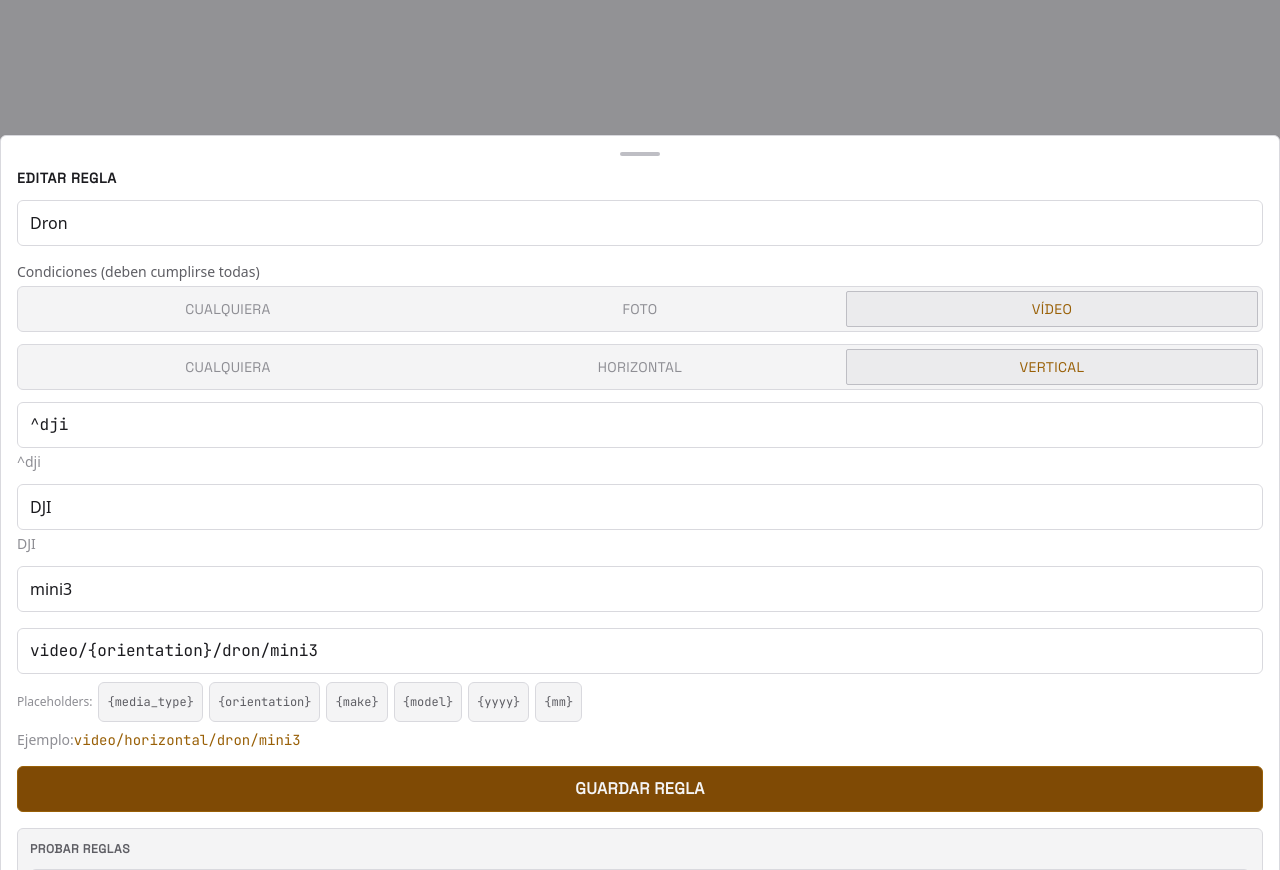
Test: RuleSheet › shows a 422 slug inline on its field (invalid_regex) and keeps the sheet open
Replace the text in the field named "Regex del nombre de archivo" with "[" at (640, 425), box [17,402,1263,448]
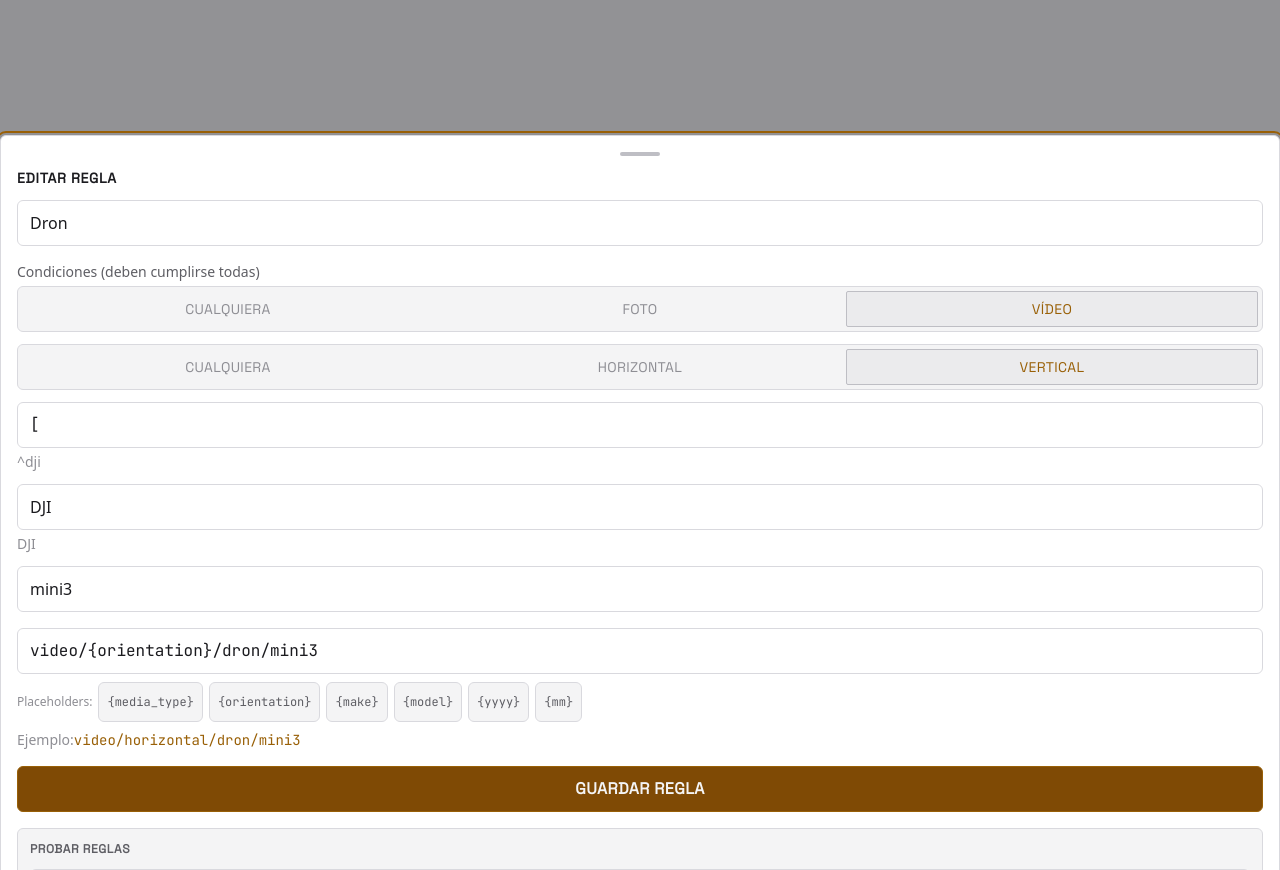
Click the button with test id "rule-save".
click(640, 789)  # box [17,766,1263,812]
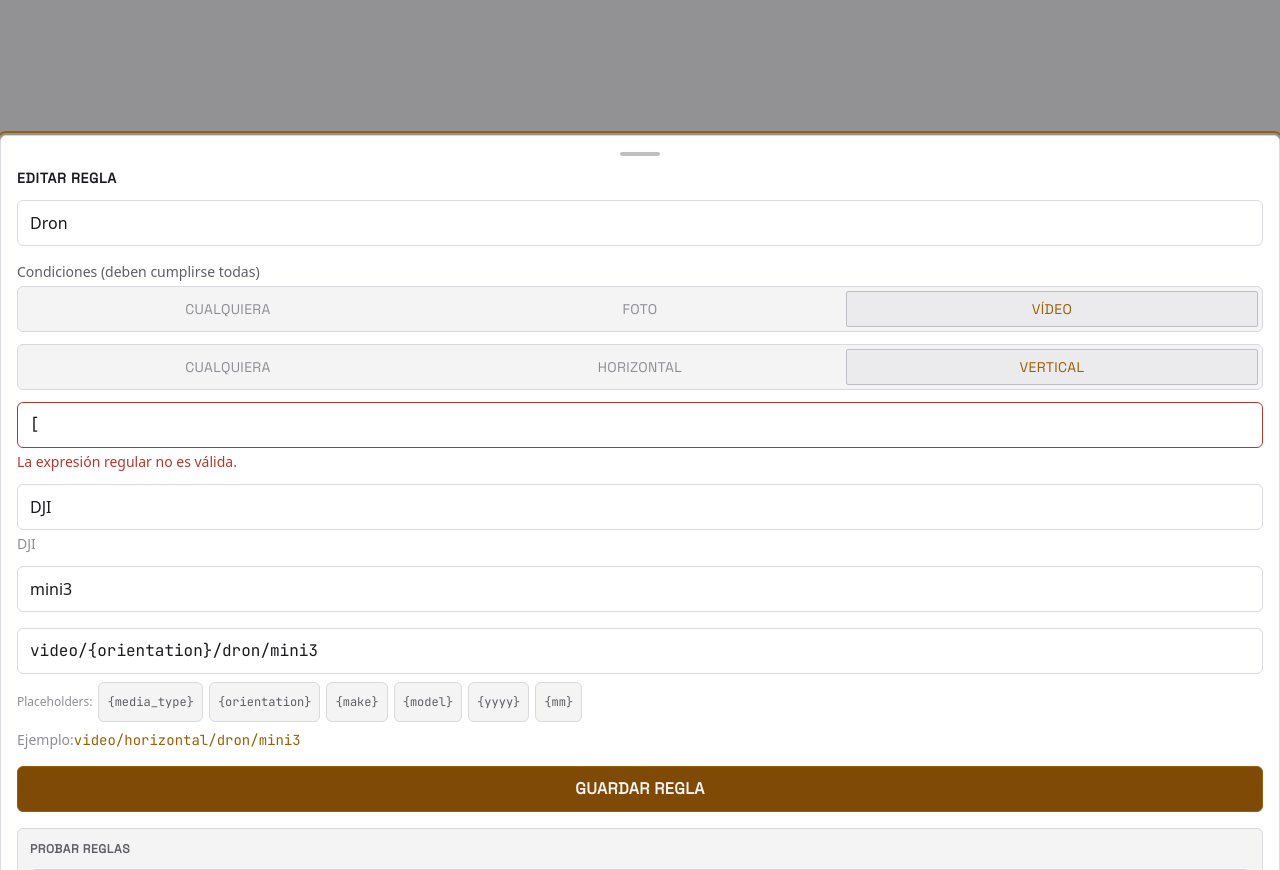
expect the element with test id "rule-regex" reads "La expresión regular no es válida.": met, box [17,452,237,471]
